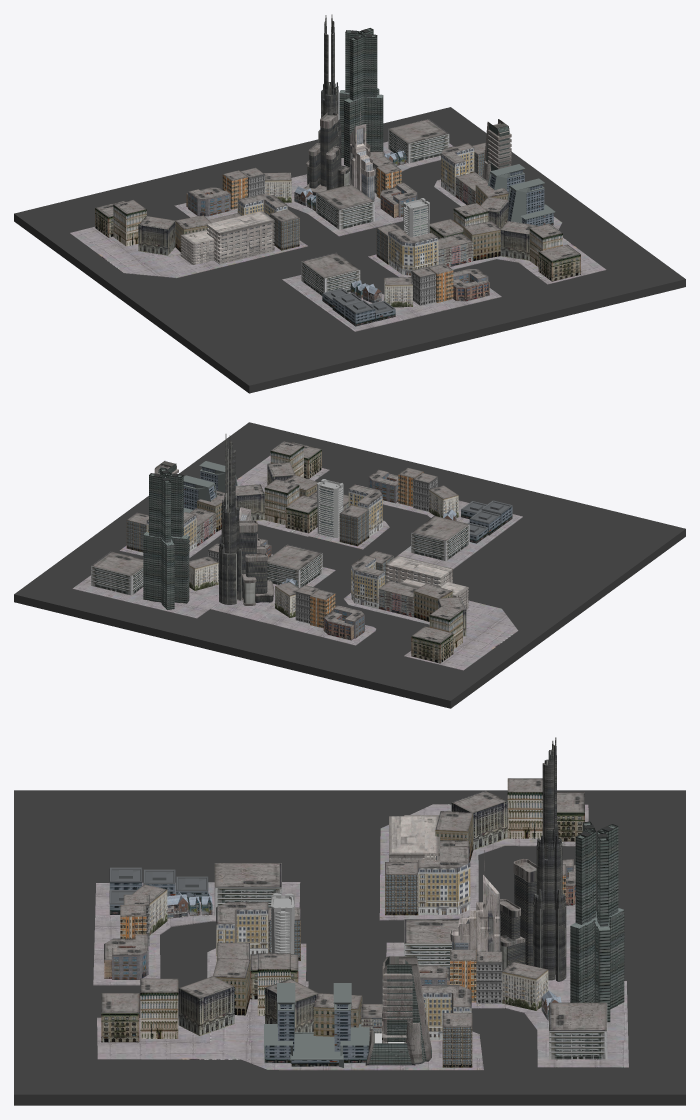
The model's file is TheCity.obj.
The picture shows the model from 3 angles, top to bottom: view 1: azimuth 30°, elevation 25°; view 2: azimuth 150°, elevation 25°; view 3: azimuth 270°, elevation 25°; orthographic projection. The views are drawn at different scales.
Visible parts, largest first — view 1: Object.1; view 2: Object.1; view 3: Object.1.
Part boxes in pixels (left/top/right/bottom): Object.1: left=14, top=14, right=685, bottom=393; Object.1: left=14, top=422, right=685, bottom=708; Object.1: left=14, top=737, right=685, bottom=1105.
Bounding box in the file's own units: 2277 × 871 × 2124.
Materials: 4 (3 with a texture image).
